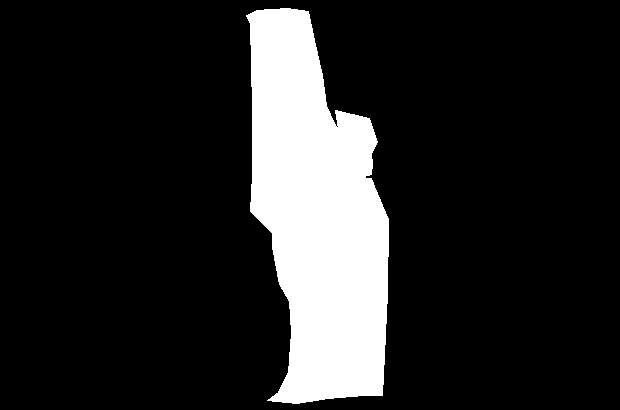type2: (233, 6, 392, 404)
